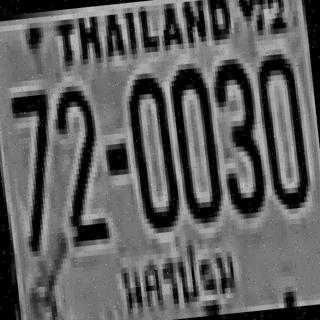N00: (123, 66, 179, 230), (253, 48, 308, 206), (167, 59, 222, 217)
N02: (54, 82, 106, 239)
N03: (211, 52, 266, 215)
N07: (7, 84, 60, 247)
P28: (107, 230, 245, 320)
